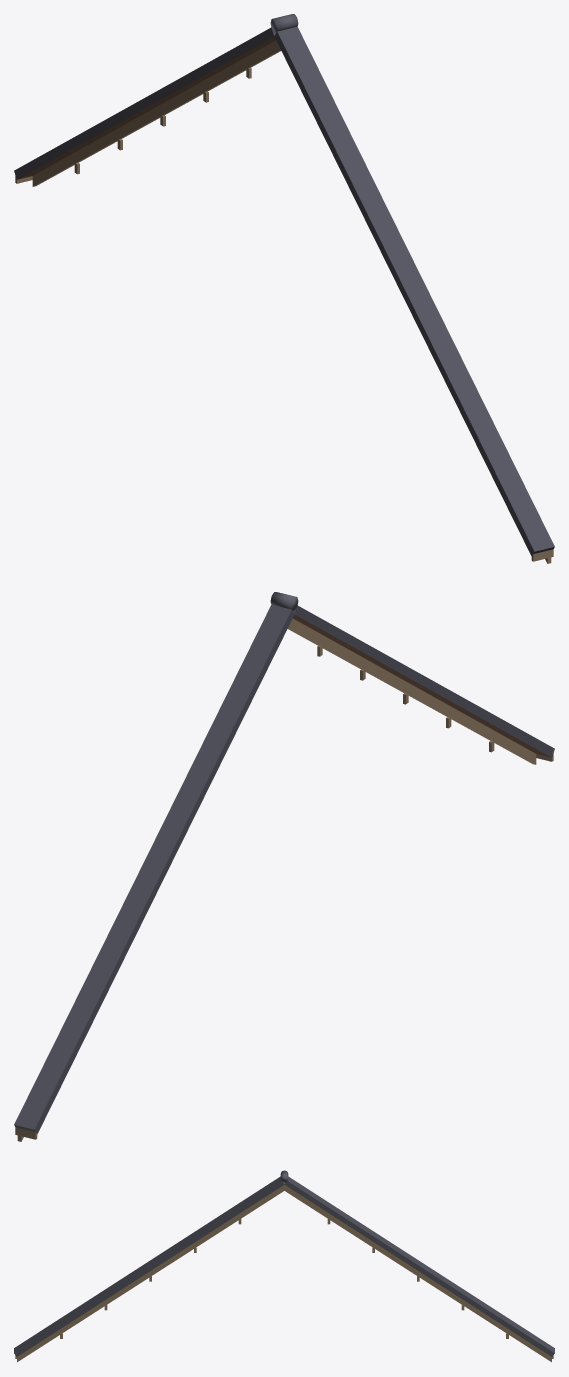
The model's file is kit_clapboard_slate_w9_end.glb.
3 renders of one model, top to bottom at view 1: azimuth 30°, elevation 25°; view 2: azimuth 150°, elevation 25°; view 3: azimuth 270°, elevation 25°, orthographic. The views are drawn at different scales.
Visible parts, largest first — view 1: kit_clapboard_slate_w9_end; view 2: kit_clapboard_slate_w9_end; view 3: kit_clapboard_slate_w9_end.
Boxes of the visible parts, left/top/right/bottom form: kit_clapboard_slate_w9_end: left=14, top=14, right=554, bottom=563; kit_clapboard_slate_w9_end: left=14, top=592, right=554, bottom=1141; kit_clapboard_slate_w9_end: left=14, top=1170, right=554, bottom=1362.
Bounding box in the file's own units: 0.22 × 3.71 × 9.7.
